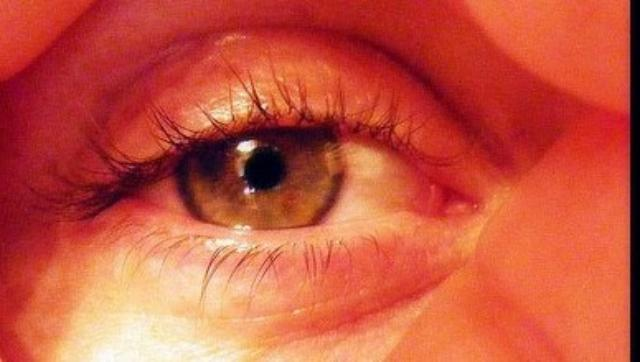eye: (173, 112, 347, 232)
